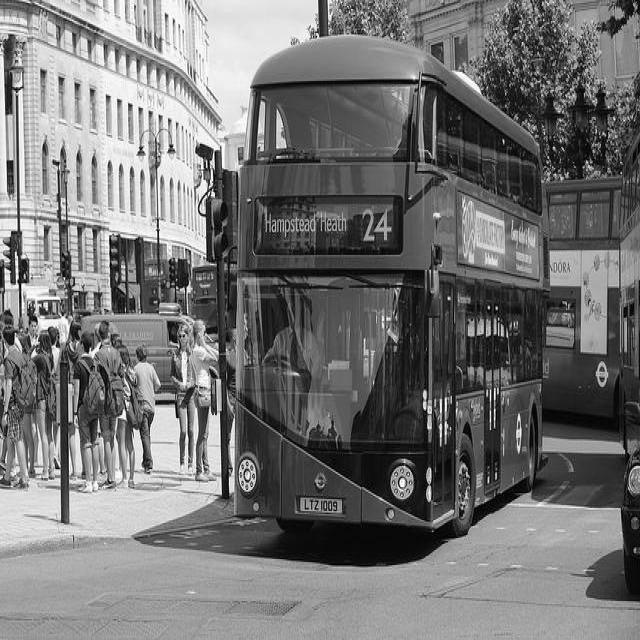vehicle: (230, 36, 554, 538), (545, 174, 619, 430), (81, 303, 220, 401), (81, 312, 219, 394), (614, 129, 640, 459), (0, 287, 70, 346), (619, 398, 640, 593), (139, 255, 193, 317), (192, 265, 218, 330)
